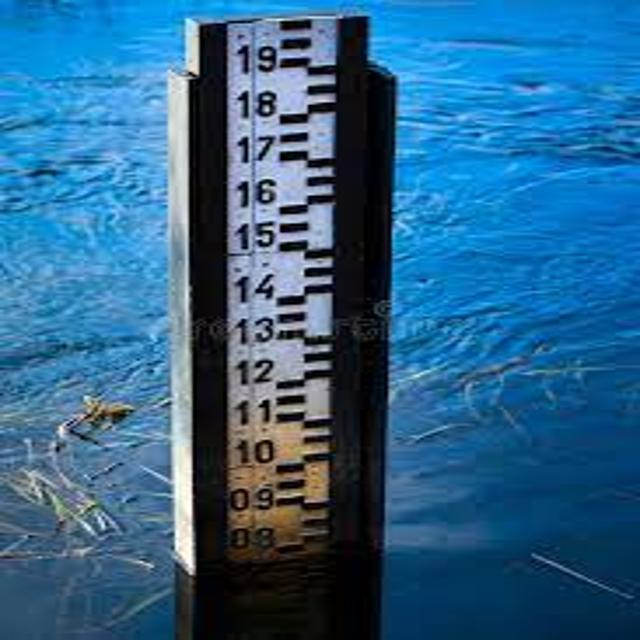ruler: (152, 2, 398, 591)
value: (232, 36, 282, 80), (228, 83, 285, 121), (231, 129, 281, 167), (232, 173, 280, 212), (231, 217, 278, 256), (229, 269, 281, 304), (231, 482, 277, 520), (229, 522, 280, 556), (231, 311, 278, 347), (232, 354, 280, 389), (232, 396, 278, 432), (233, 435, 278, 470)
